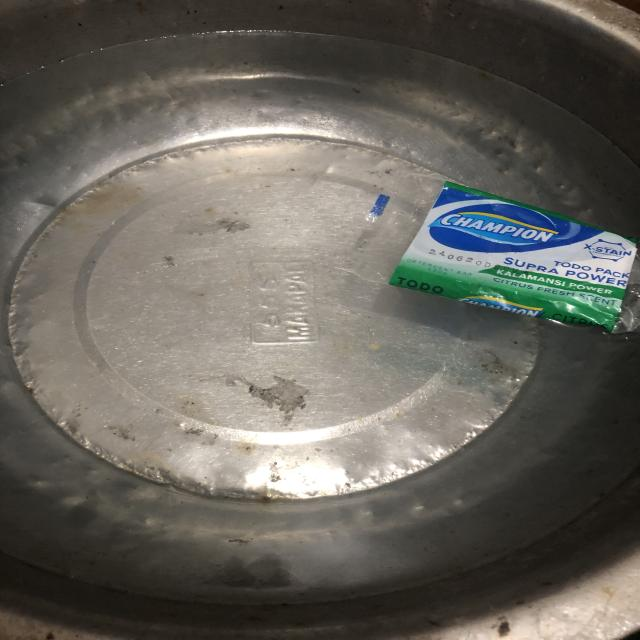Plastic Wrapper: (333, 164, 640, 352)
